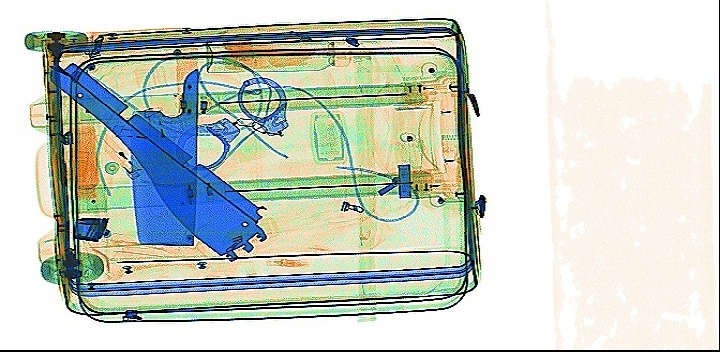handcuffs: (176, 75, 289, 171)
knife: (128, 38, 200, 247)
lighter: (92, 128, 142, 180), (143, 104, 167, 165)
pressure: (204, 32, 352, 74)
